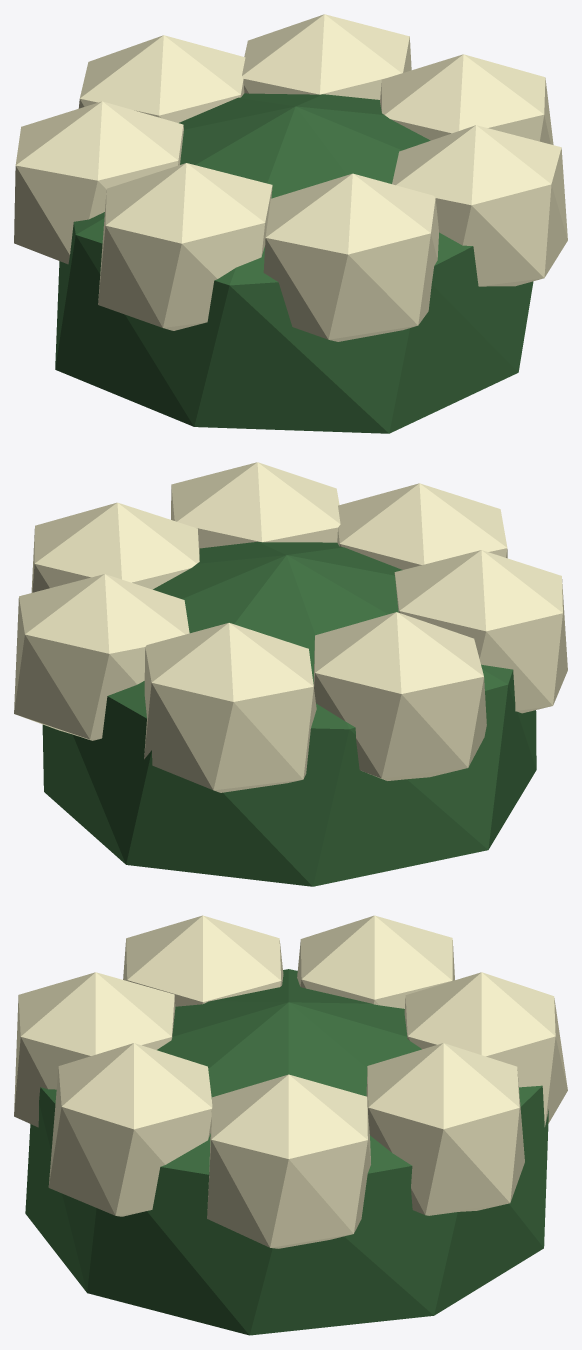
The model's file is flower_white.glb.
3 views of the same model, one above another, from view 1: azimuth 30°, elevation 25°; view 2: azimuth 150°, elevation 25°; view 3: azimuth 270°, elevation 25° (orthographic). The views are drawn at different scales.
Parts seen in each view (by area): view 1: flower_white; view 2: flower_white; view 3: flower_white.
Boxes of the visible parts, x1=… form: flower_white: x1=14, y1=14, x2=567, y2=433; flower_white: x1=14, y1=462, x2=567, y2=886; flower_white: x1=14, y1=915, x2=567, y2=1335.
Size of the model in its own units: 1.37 by 0.83 by 1.32.
